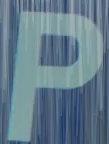Parking: (3, 3, 101, 132)
